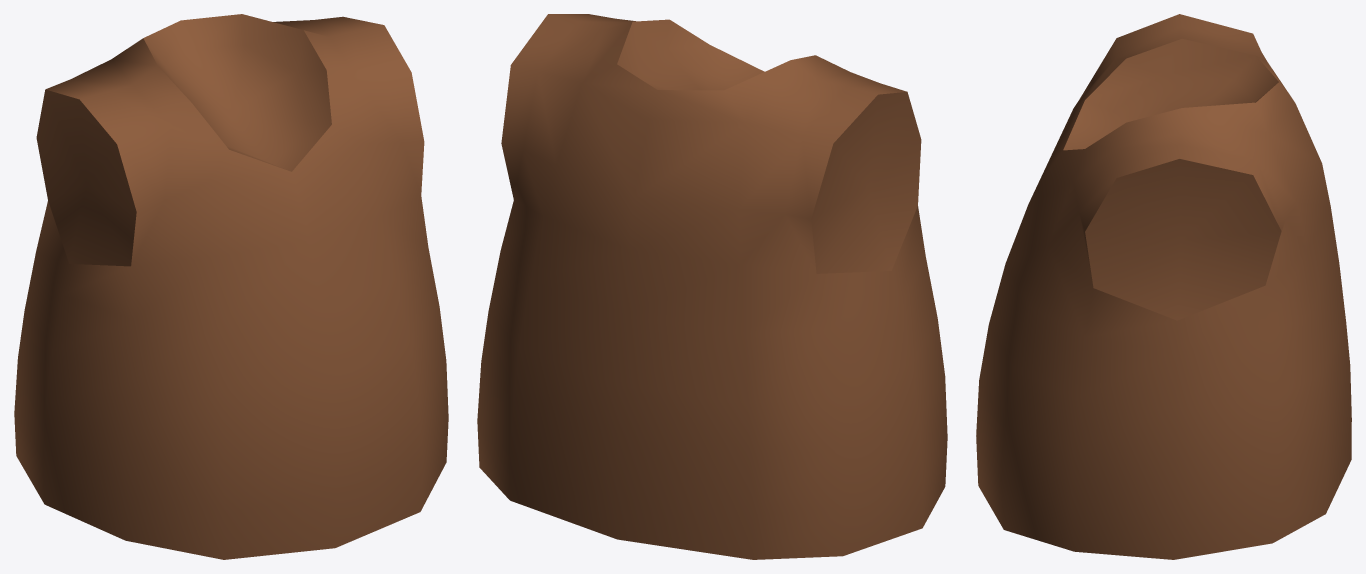
File: Chest_63.fbx
The picture shows the model from 3 angles, left to right: view 1: azimuth 30°, elevation 25°; view 2: azimuth 150°, elevation 25°; view 3: azimuth 270°, elevation 25°; orthographic projection. The views are drawn at different scales.
Visible parts, largest first — view 1: Chest_63; view 2: Chest_63; view 3: Chest_63.
Boxes of the visible parts, x1=… form: Chest_63: x1=14, y1=14, x2=448, y2=559; Chest_63: x1=477, y1=14, x2=947, y2=559; Chest_63: x1=976, y1=14, x2=1351, y2=559.
Size of the model in its own units: 41 by 43.35 by 35.79.
